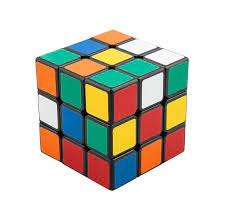cube: (24, 27, 193, 193)
